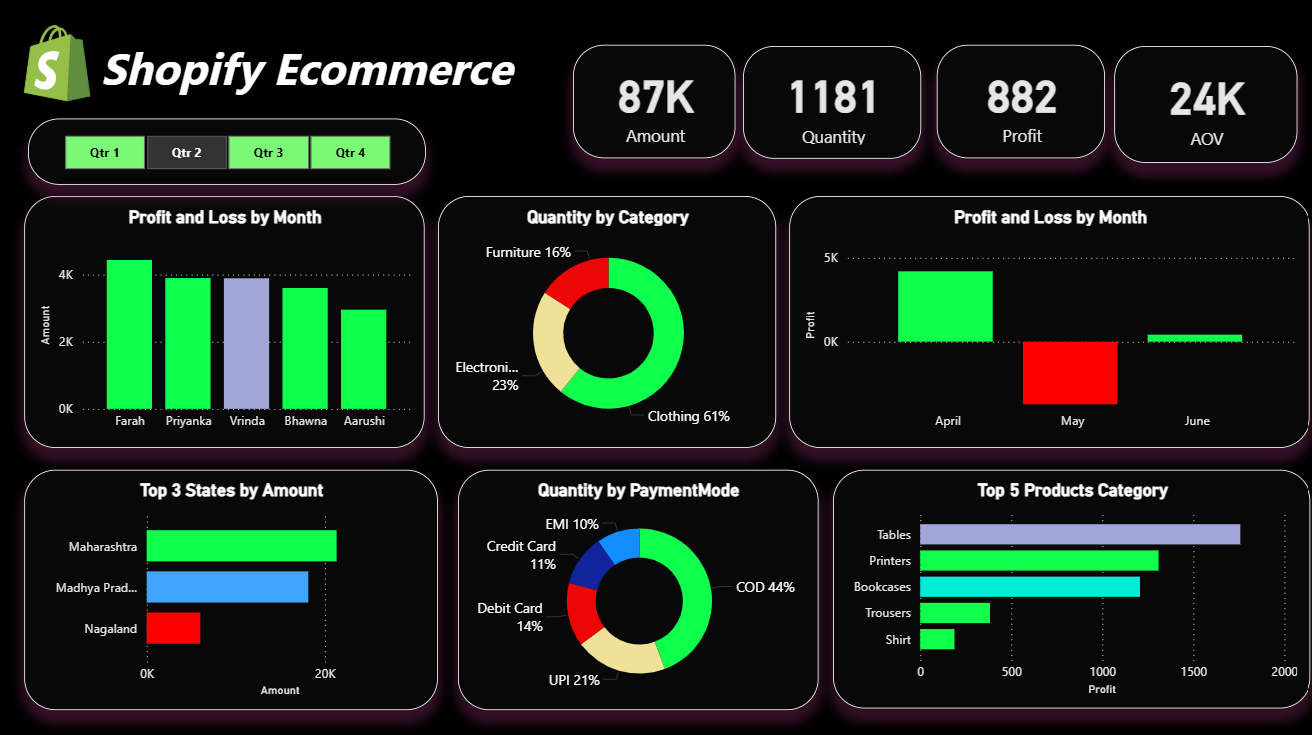

What the dashboard file says about the page in this screenshot:
{"tool":"powerbi","page":{"name":"Shopify","canvas":[1280,720],"ordinal":0},"visuals":[{"type":"columnChart","title":"Profit and Loss by Month","fields":{"Y":["Sum(Products.Profit)"],"Category":["Orders.Order Date.Variation.Date Hierarchy.Month"]},"box":[768.6,193.2,503.2,243.2],"z":0},{"type":"barChart","title":"Top 5 Products Category","fields":{"Category":["Products.Sub-Category"],"Y":["Sum(Products.Profit)"]},"box":[810.3,457.3,461.5,230.7],"z":1000},{"type":"donutChart","fields":{"Category":["Products.Category"],"Y":["Sum(Products.Quantity)"]},"box":[429.5,193.2,326.6,243.2],"z":2000},{"type":"donutChart","fields":{"Y":["Sum(Products.Quantity)"],"Category":["Products.PaymentMode"]},"box":[448.5,456.9,347.7,231.8],"z":3000},{"type":"card","fields":{"Values":["Sum(Products.Amount)"]},"box":[560.2,47.3,157.1,109.8],"z":4000},{"type":"card","fields":{"Values":["Sum(Products.Quantity)"]},"box":[724.2,48.6,172.4,108.4],"z":5000},{"type":"card","fields":{"Values":["Sum(Products.Profit)"]},"box":[910.4,47.3,162.6,109.8],"z":6000},{"type":"card","fields":{"Values":["Sum(Products.AOV)"]},"box":[1082.8,48.6,176.5,112.6],"z":7000},{"type":"barChart","title":"Top 3 States by Amount","fields":{"Y":["Sum(Products.Amount)"],"Category":["Orders.State"]},"box":[30.6,457.3,398.9,232.1],"z":8000},{"type":"columnChart","title":"Profit and Loss by Month","fields":{"Category":["Orders.CustomerName"],"Y":["Sum(Products.Amount)"]},"box":[30.6,193.2,386.4,243.2],"z":9000},{"type":"slicer","fields":{"Values":["Orders.Order Date.Variation.Date Hierarchy.Quarter"]},"box":[33.4,118.1,383.6,63.9],"z":10000},{"type":"textbox","box":[99.1,35.3,431.7,110.9],"z":11000},{"type":"image","box":[10.1,0,107.5,117.6],"z":12000}]}

Visuals, with their boxes in screenshot pixels (x1, y1, x2, y2), scaled from the page's 1280x720 canvas onto the 1312x735 screenshot:
"Profit and Loss by Month" columnChart: BBox(788, 197, 1304, 445)
"Top 5 Products Category" barChart: BBox(831, 467, 1304, 702)
donutChart - Products.Category x Sum(Products.Quantity): BBox(440, 197, 775, 445)
donutChart - Sum(Products.Quantity) x Products.PaymentMode: BBox(460, 466, 816, 703)
card - Sum(Products.Amount): BBox(574, 48, 735, 160)
card - Sum(Products.Quantity): BBox(742, 50, 919, 160)
card - Sum(Products.Profit): BBox(933, 48, 1100, 160)
card - Sum(Products.AOV): BBox(1110, 50, 1291, 165)
"Top 3 States by Amount" barChart: BBox(31, 467, 440, 704)
"Profit and Loss by Month" columnChart: BBox(31, 197, 427, 445)
slicer - Orders.Order Date.Variation.Date Hierarchy.Quarter: BBox(34, 121, 427, 186)
textbox: BBox(102, 36, 544, 149)
image: BBox(10, 0, 121, 120)
